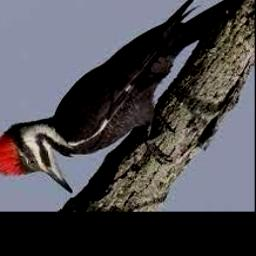Woodpecker: (0, 0, 252, 193)
